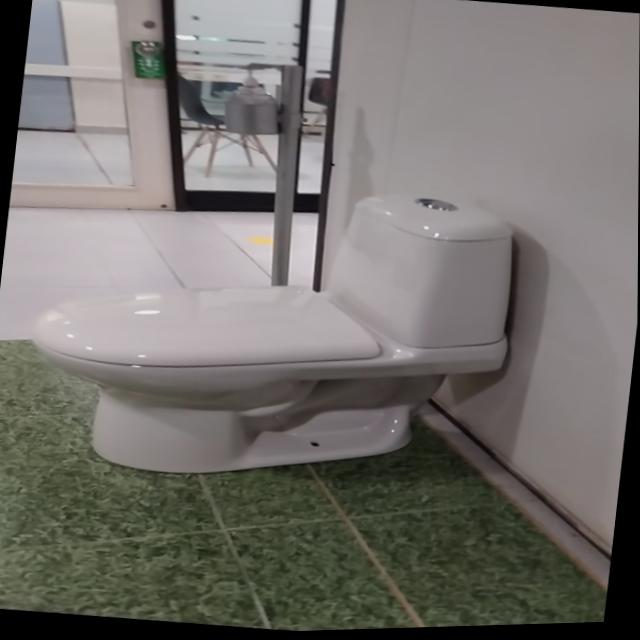toilet: (17, 156, 525, 512)
